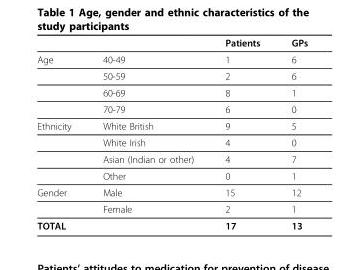table: (36, 36, 307, 231)
table column: (86, 36, 208, 231), (208, 36, 275, 231), (36, 36, 86, 231), (275, 36, 307, 231)
table column header: (36, 36, 307, 50)
table row: (36, 50, 307, 67), (36, 67, 307, 84), (36, 100, 307, 117), (36, 133, 307, 150), (36, 150, 307, 167), (36, 183, 307, 200), (36, 84, 307, 100), (36, 117, 307, 133), (36, 167, 307, 183), (36, 200, 307, 216), (36, 216, 307, 231), (36, 36, 307, 50)
table spanning cell: (36, 50, 86, 117), (36, 117, 86, 183), (36, 183, 86, 216)
